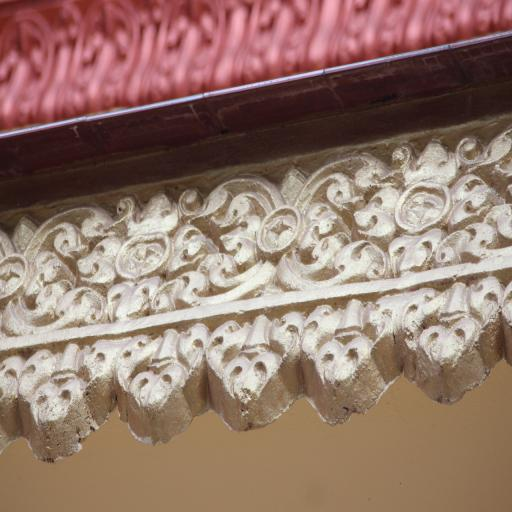hoa: (363, 142, 488, 280), (85, 200, 205, 328)
la: (202, 175, 368, 300), (399, 290, 504, 406), (0, 198, 88, 336), (302, 299, 400, 422), (208, 319, 303, 435), (14, 354, 114, 461), (113, 338, 210, 444)
